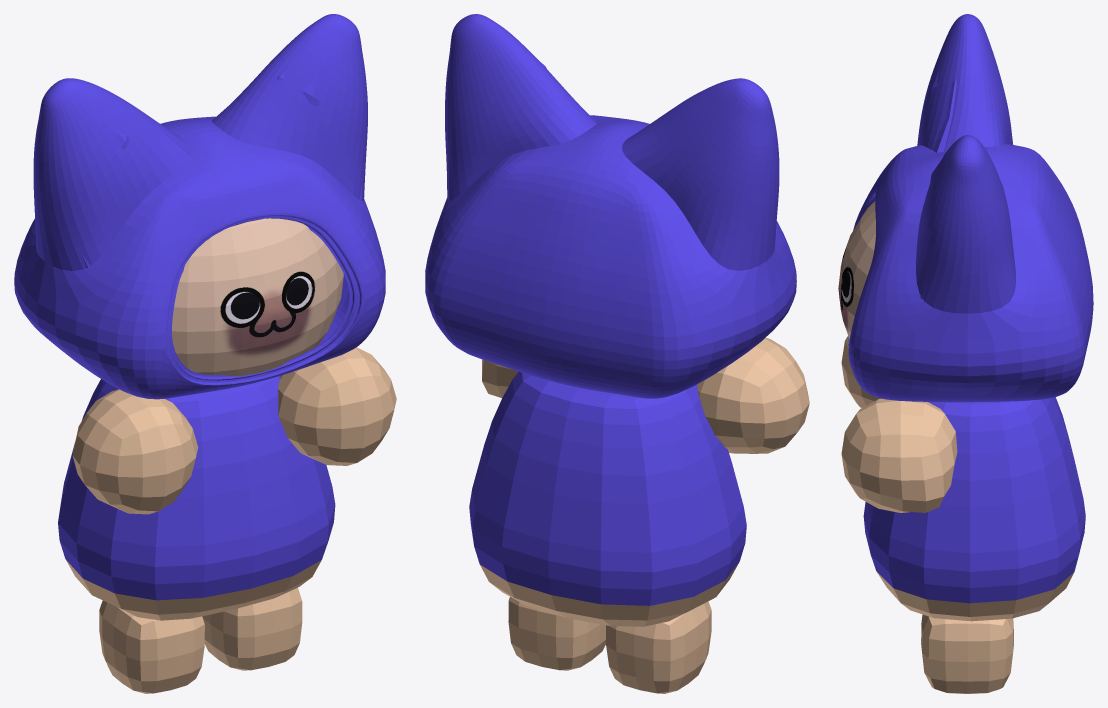
3 renders of one model, left to right at view 1: azimuth 30°, elevation 25°; view 2: azimuth 150°, elevation 25°; view 3: azimuth 270°, elevation 25°, orthographic. The views are drawn at different scales.
Parts seen in each view (by area): view 1: 立方体, 立方体.001, 球体, 立方体.005, 立方体.004, 立方体.002, 立方体.003, 立方体.006; view 2: 立方体, 立方体.001, 立方体.005, 立方体.002, 立方体.003, 立方体.004; view 3: 立方体, 立方体.001, 立方体.004, 立方体.003, 球体, 立方体.005, 立方体.006.
Boxes of the visible parts, x1,y1,x2,y2 form: 立方体: (14,14,385,399); 立方体.001: (58,376,335,620); 球体: (172,218,343,376); 立方体.005: (72,389,198,514); 立方体.004: (278,347,396,465); 立方体.002: (99,600,204,693); 立方体.003: (202,587,302,670); 立方体.006: (82,70,361,380); 立方体: (425,14,796,398); 立方体.001: (469,371,746,626); 立方体.005: (697,337,809,453); 立方体.002: (606,601,711,693); 立方体.003: (508,597,605,670); 立方体.004: (482,359,518,397); 立方体: (848,14,1093,402); 立方体.001: (863,397,1085,621); 立方体.004: (841,398,957,512); 立方体.003: (921,614,1013,693); 球体: (838,201,875,338); 立方体.005: (841,336,880,408); 立方体.006: (871,72,956,298).
Size of the model in its own units: 75.63 by 54.63 by 139.
Materials: 3 (1 with a texture image).
